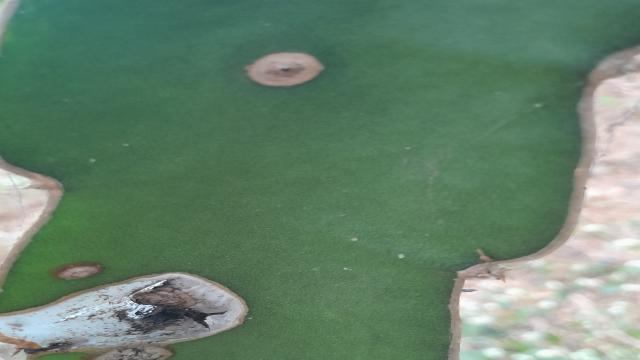stemcanker: (238, 48, 333, 92), (50, 258, 110, 287)
